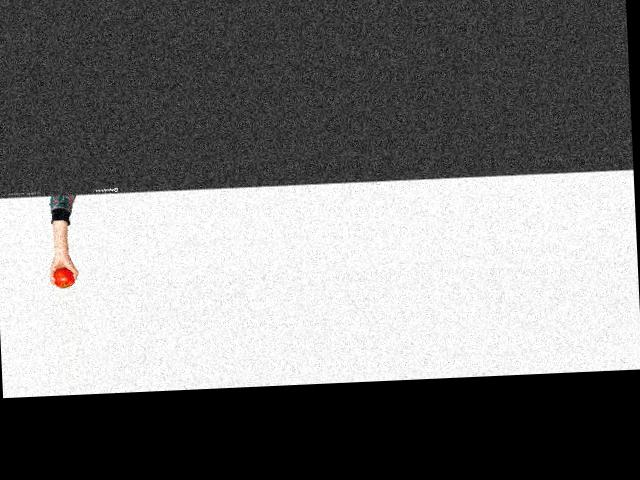tomato: (52, 267, 74, 288)
